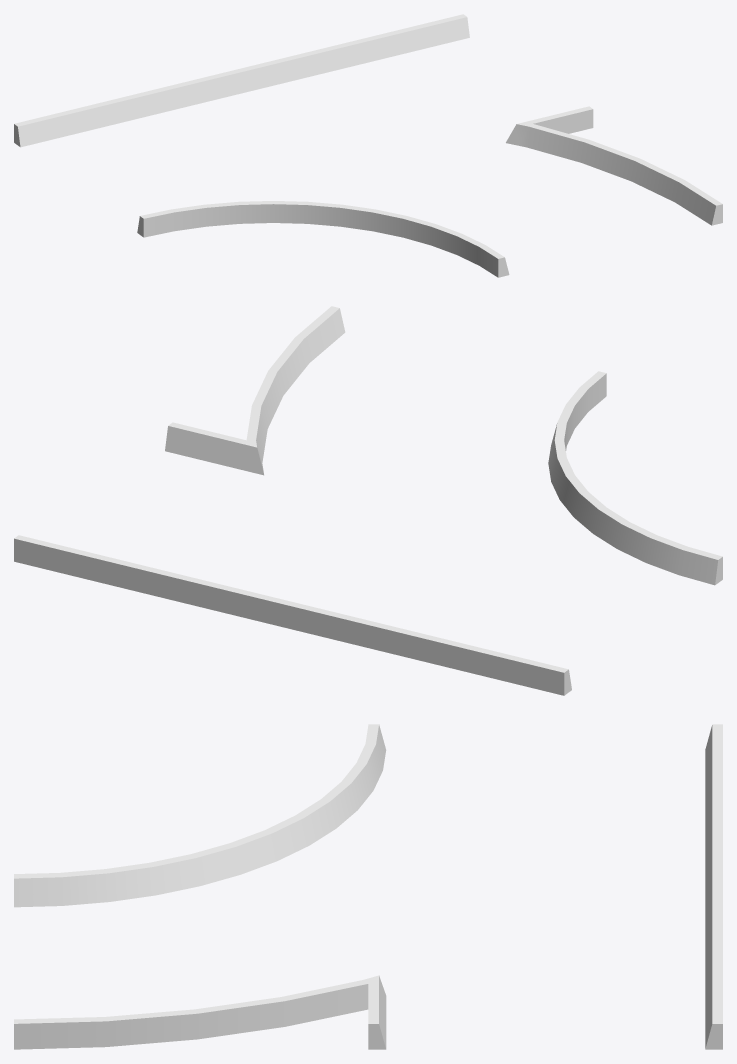
File: kenney-city-roads-road-curve-intersection-barrier.glb
3 renders of one model, top to bottom at view 1: azimuth 30°, elevation 25°; view 2: azimuth 150°, elevation 25°; view 3: azimuth 270°, elevation 25°, orthographic. The views are drawn at different scales.
Parts seen in each view (by area): view 1: road-curve-intersection-barrier; view 2: road-curve-intersection-barrier; view 3: road-curve-intersection-barrier.
Boxes of the visible parts, x1=… form: road-curve-intersection-barrier: x1=14, y1=14, x2=722, y2=277; road-curve-intersection-barrier: x1=14, y1=306, x2=722, y2=695; road-curve-intersection-barrier: x1=14, y1=724, x2=722, y2=1049.
Size of the model in its own units: 2 by 0.0801 by 2.
1 material, 1 textured.
